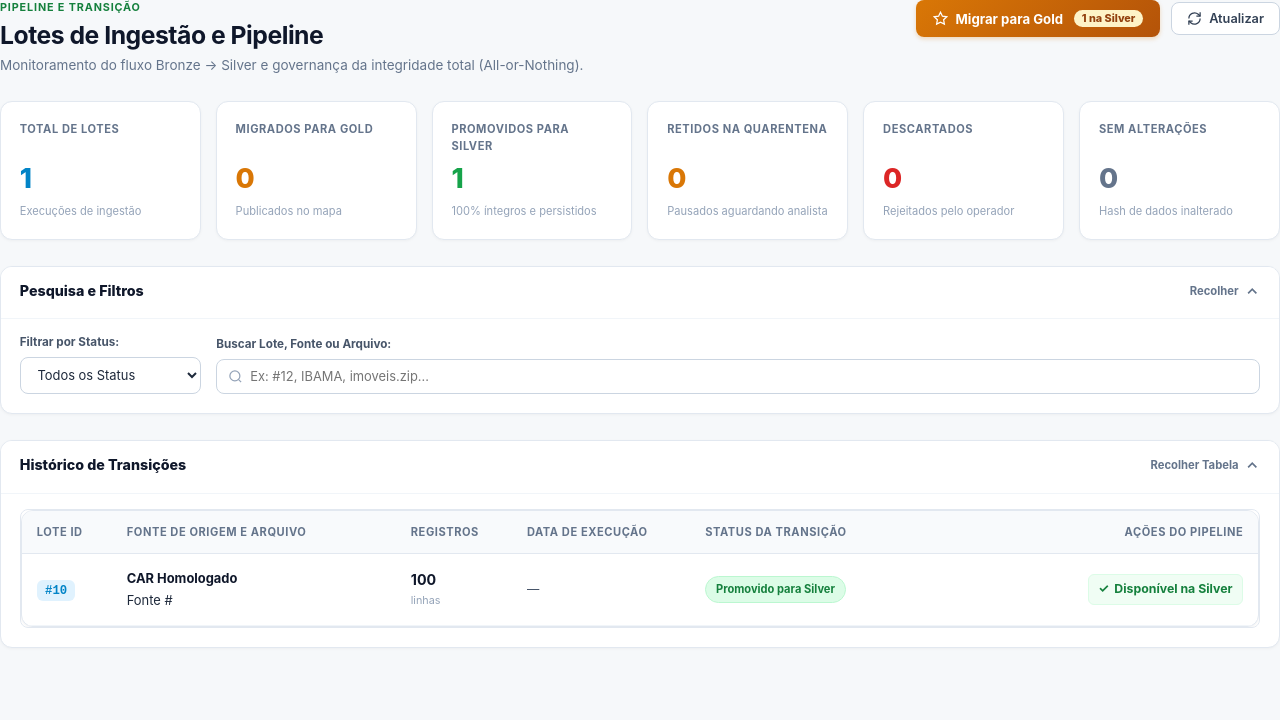
it: LotesView.vue - Liberação e Quarentena › ao falhar a migração para Gold, exibe fase de erro com mensagem de falha
Note: Abre modal e confirma
Click the button with class "btn-migrar-gold" at [1038, 18], box [916,0,1160,37]
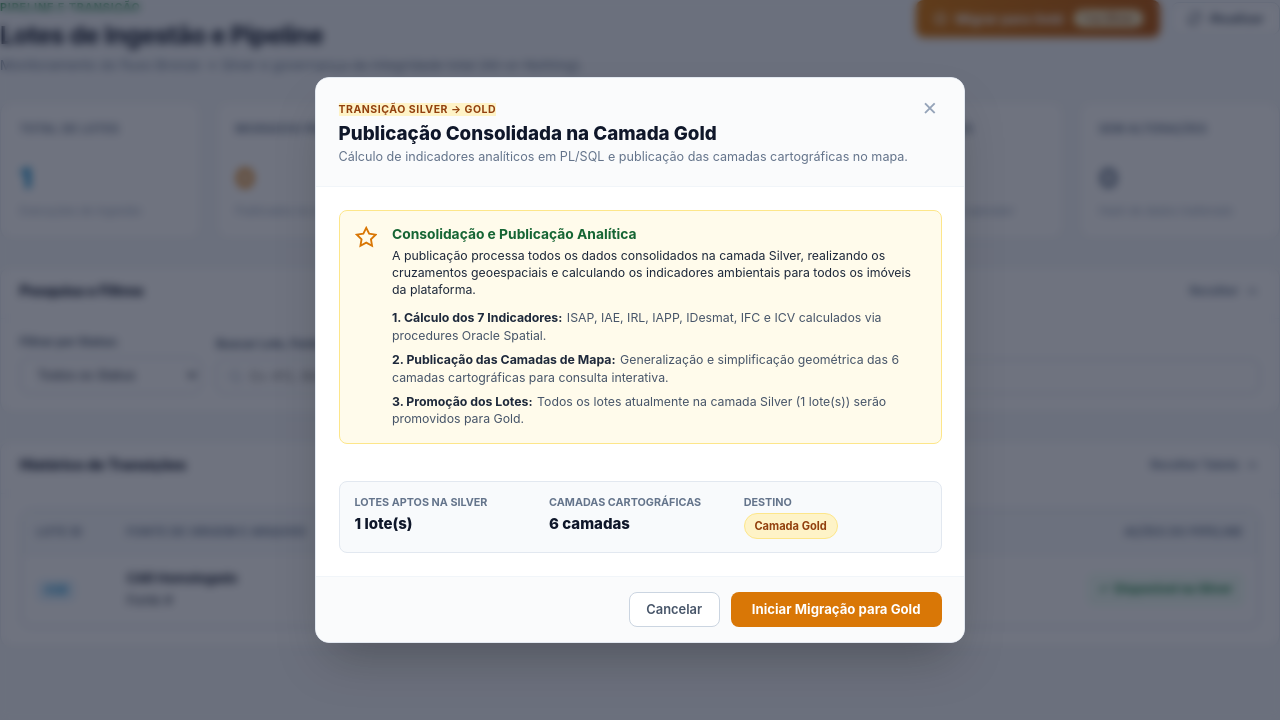
Click the button with class "btn-confirmar-gold" at [836, 609], box [731,592,942,627]
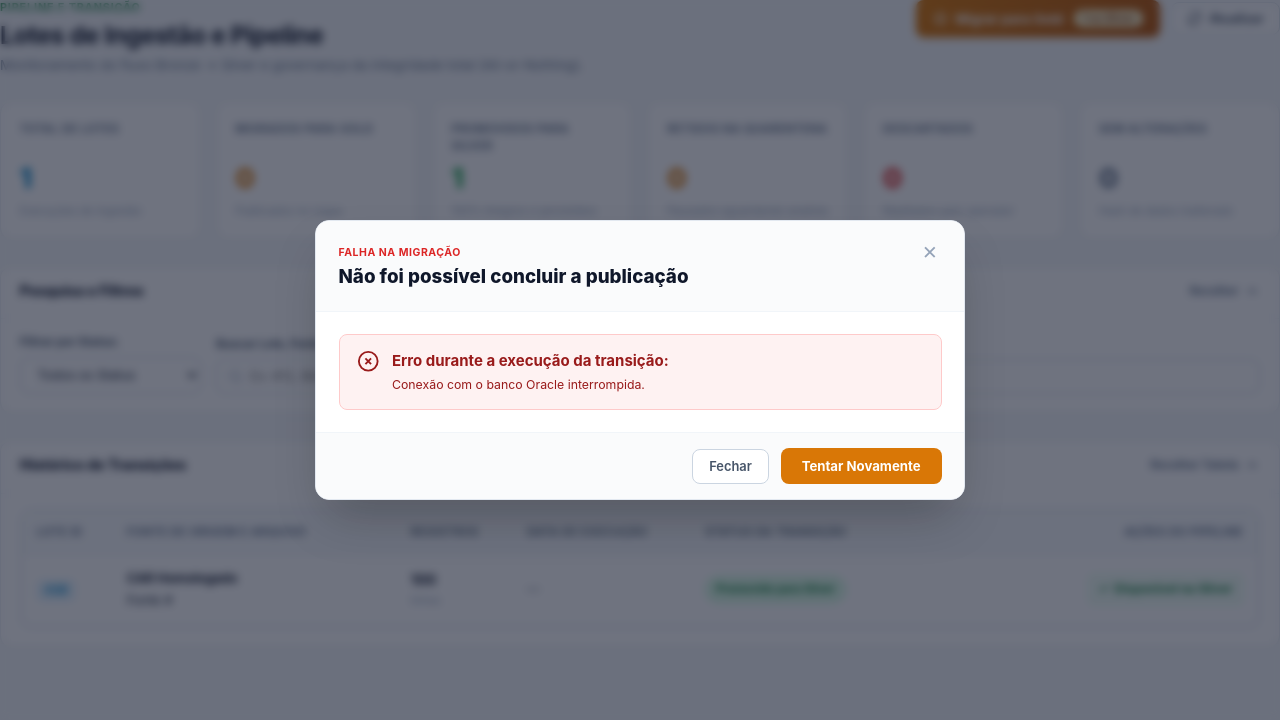
Check: the text "FALHA NA MIGRAÇÃO" is shown, box [338,246,461,259]
Check: the text "Conexão com o banco Oracle interrompida." is shown, box [392,376,669,394]
Check: the button with class "btn-confirmar-gold" reads "Tentar Novamente", box [781,448,942,484]
